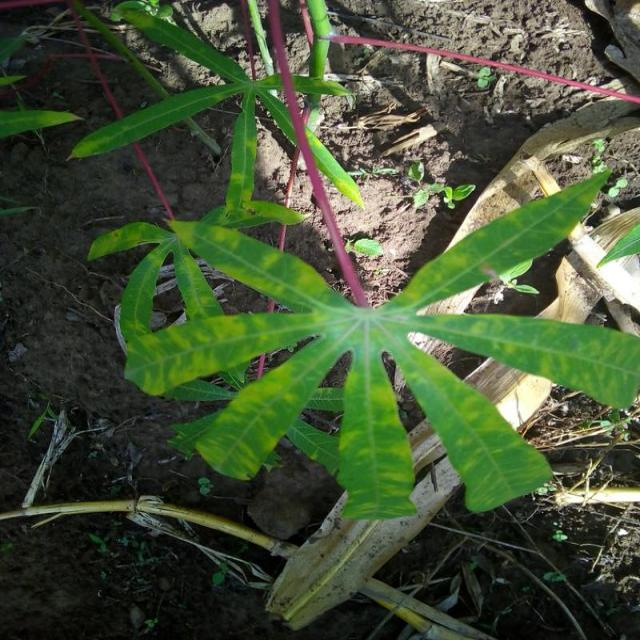cassava leaf: (96, 160, 634, 521)
